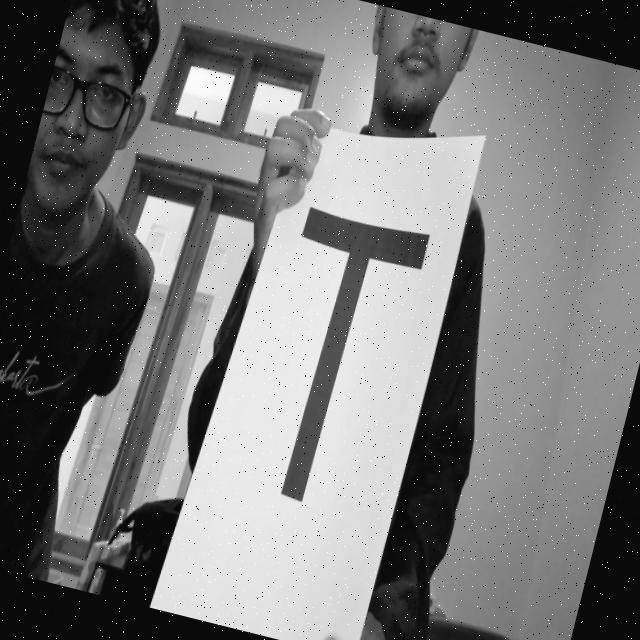t: (227, 192, 438, 528)
